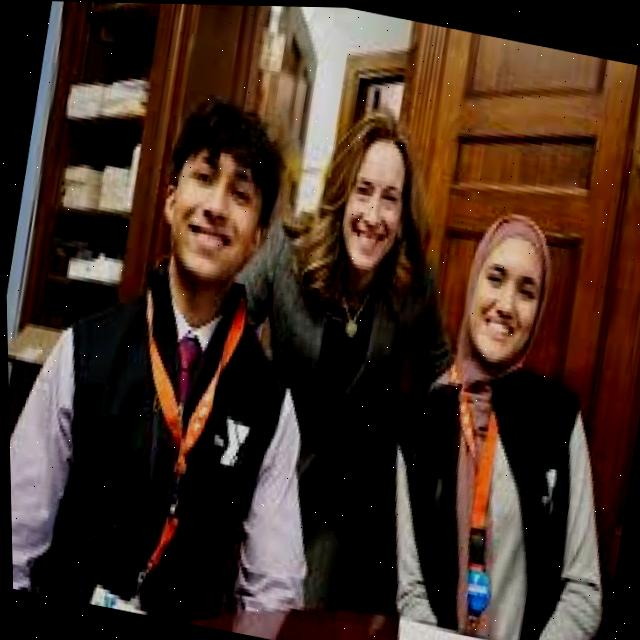id_card: (90, 257, 249, 609), (391, 338, 541, 616)
